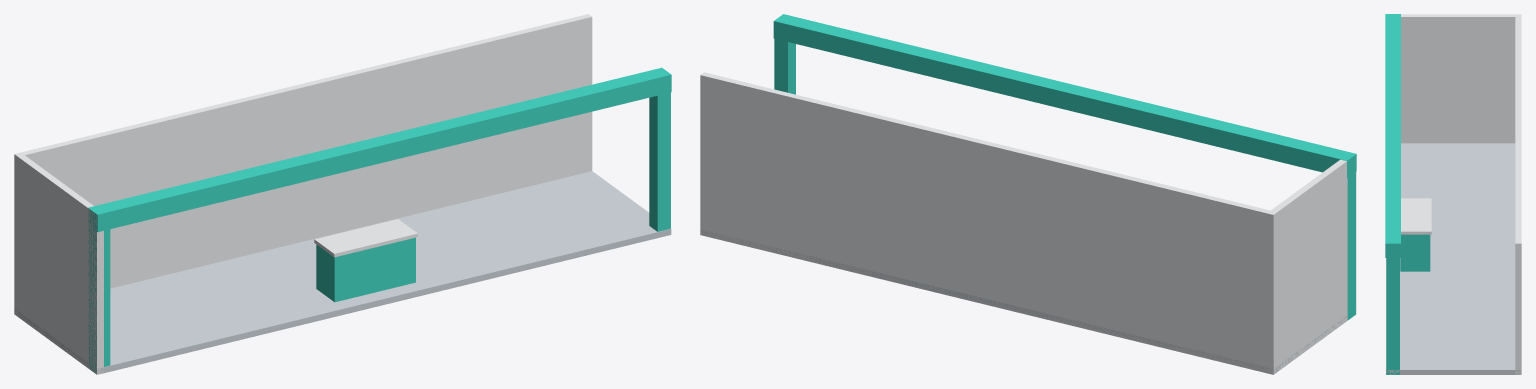
The picture shows the model from 3 angles, left to right: view 1: azimuth 30°, elevation 25°; view 2: azimuth 150°, elevation 25°; view 3: azimuth 270°, elevation 25°; orthographic projection. The views are drawn at different scales.
Parts seen in each view (by area): view 1: Exhibition Booth Concept; view 2: Exhibition Booth Concept; view 3: Exhibition Booth Concept.
Boxes of the visible parts, left/top/right/bottom form: Exhibition Booth Concept: left=14, top=14, right=671, bottom=374; Exhibition Booth Concept: left=700, top=14, right=1356, bottom=374; Exhibition Booth Concept: left=1385, top=14, right=1521, bottom=374.
Bounding box in the file's own units: 12 × 3.2 × 3.01.
